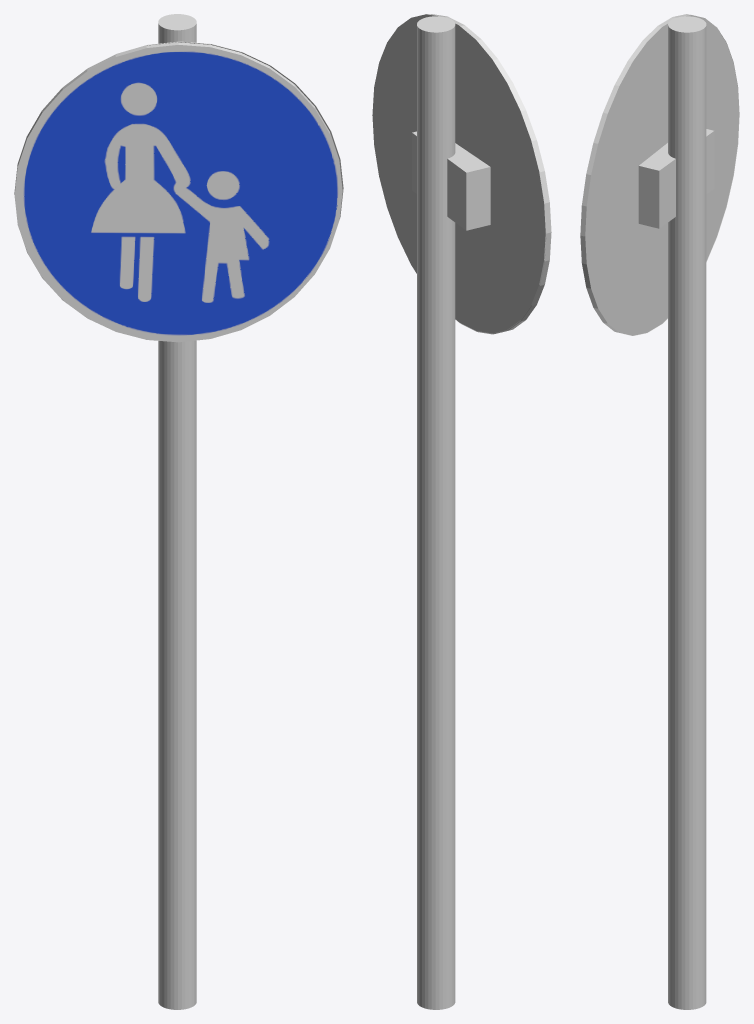
Rendered from Pejalan.fbx.
The picture shows the model from 3 angles, left to right: view 1: azimuth 30°, elevation 25°; view 2: azimuth 150°, elevation 25°; view 3: azimuth 270°, elevation 25°; orthographic projection.
Parts seen in each view (by area): view 1: Cylinder.001, Cylinder; view 2: Cylinder, Cylinder.001, Cube; view 3: Cylinder, Cylinder.001, Cube.
Boxes of the visible parts, <box> form: Cylinder.001: <box>14,41,343,342</box>; Cylinder: <box>158,14,196,1009</box>; Cylinder: <box>417,16,455,1009</box>; Cylinder.001: <box>372,14,551,334</box>; Cube: <box>412,131,490,230</box>; Cylinder: <box>668,16,706,1009</box>; Cylinder.001: <box>580,14,739,335</box>; Cube: <box>638,129,714,228</box>.
Bounding box in the file's own units: 197 × 727 × 107.
